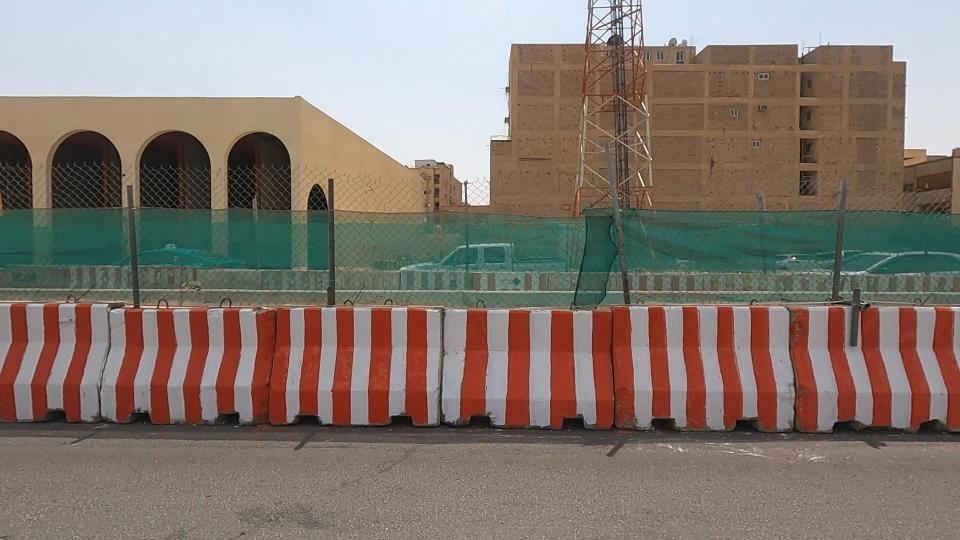CONSTRUCTION_ROAD: (0, 127, 650, 529), (321, 140, 960, 540)
